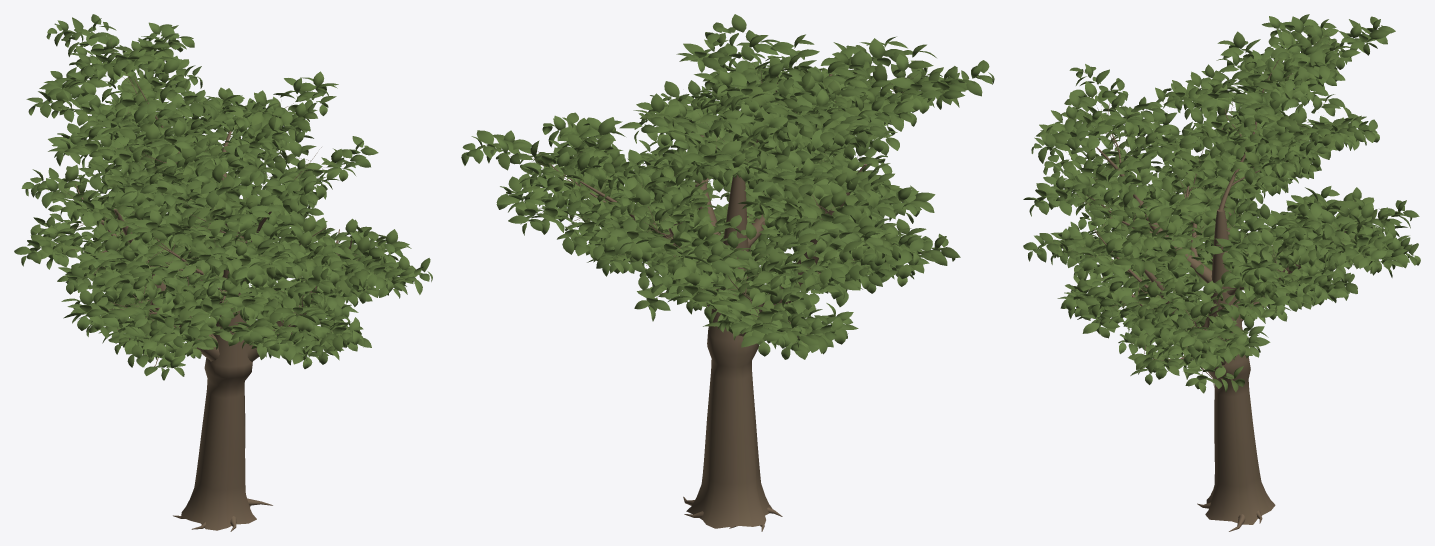
Rendered from corealm_oak_3.glb.
The picture shows the model from 3 angles, left to right: view 1: azimuth 30°, elevation 25°; view 2: azimuth 150°, elevation 25°; view 3: azimuth 270°, elevation 25°; orthographic projection. The views are drawn at different scales.
Visible parts, largest first — view 1: corealm_oak_3; view 2: corealm_oak_3; view 3: corealm_oak_3.
Part boxes in pixels (x1,y1,x2,y2): corealm_oak_3: (14, 14, 432, 531); corealm_oak_3: (461, 14, 994, 531); corealm_oak_3: (1023, 14, 1420, 531).
Size of the model in its own units: 5.3 by 6.56 by 5.16.
